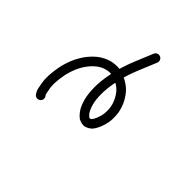t: (103, 44, 169, 94)
